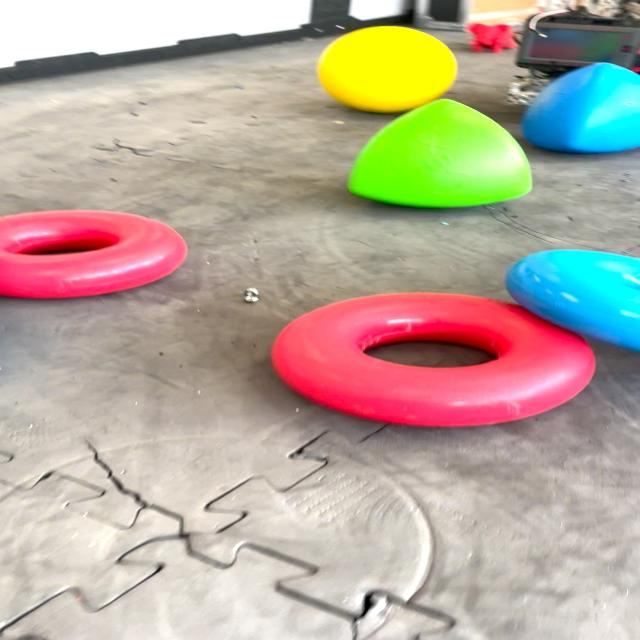Blue-Ring: (507, 250, 640, 351)
Red-Ring: (271, 292, 596, 426), (0, 210, 187, 299), (589, 304, 593, 307)
